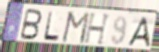9: (111, 15, 130, 47)
A: (126, 16, 151, 48)
B: (19, 8, 43, 41)
H: (82, 12, 112, 47)
L: (42, 10, 60, 43)
M: (60, 11, 91, 45)
